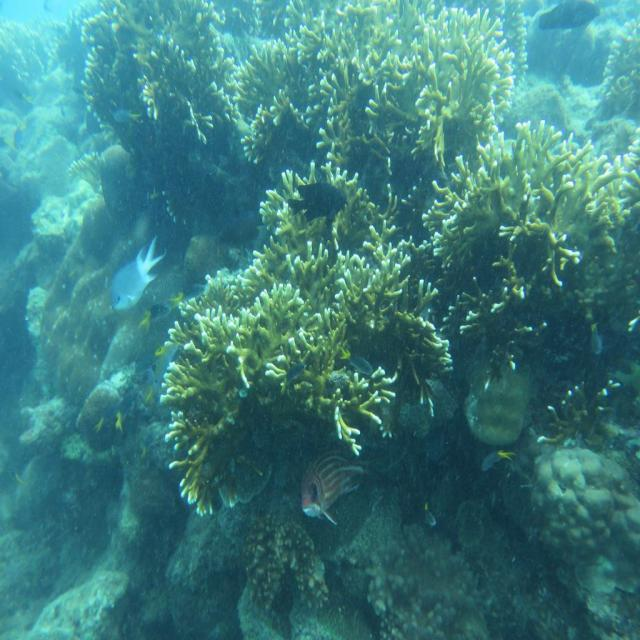Asker Baligi: (283, 433, 374, 538)
